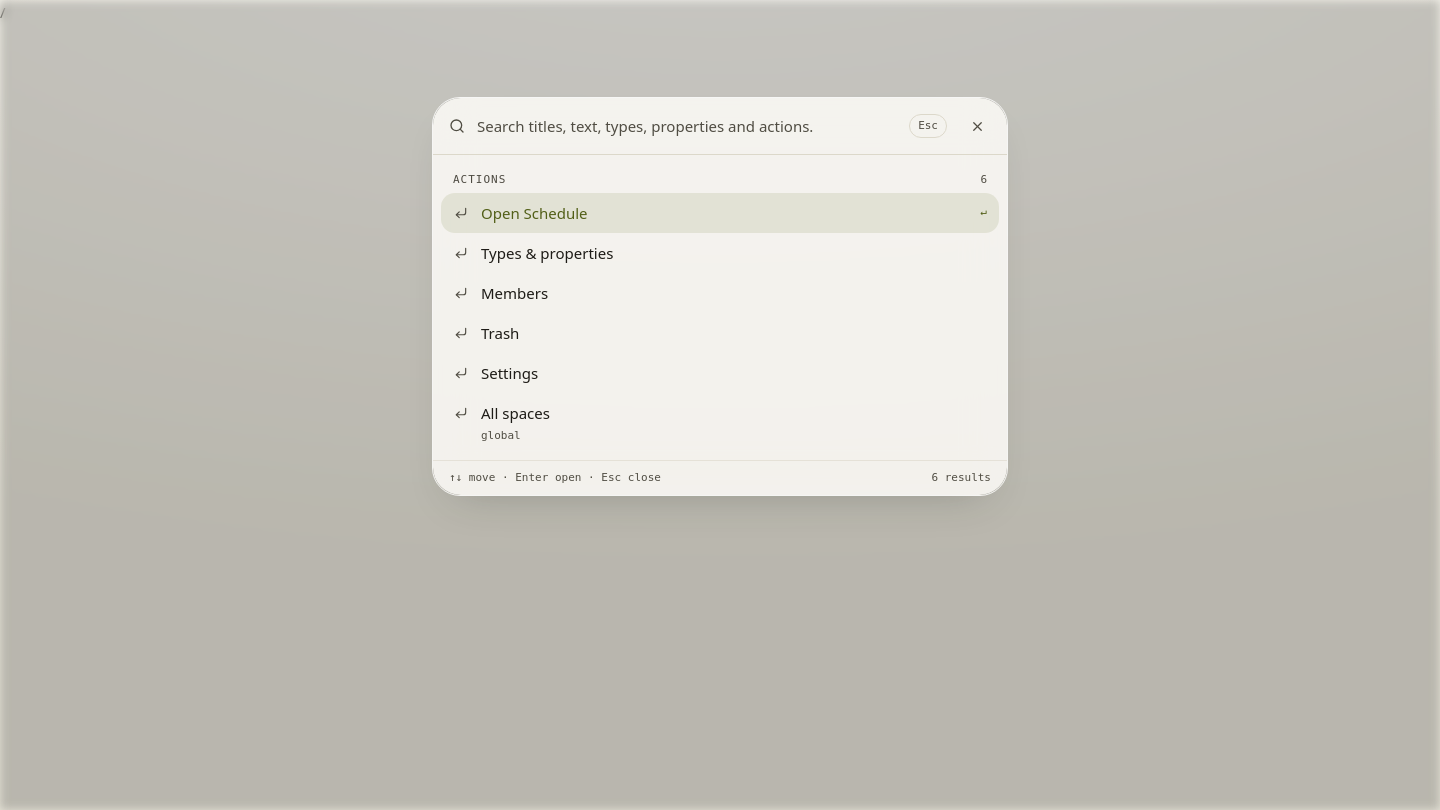
Scenario: CommandPalette › finds a property and opens it on the schema page
Type "roo" into the dropdown named "Search and commands".
click(687, 126); type("roo")  # box 477,98 -> 897,154
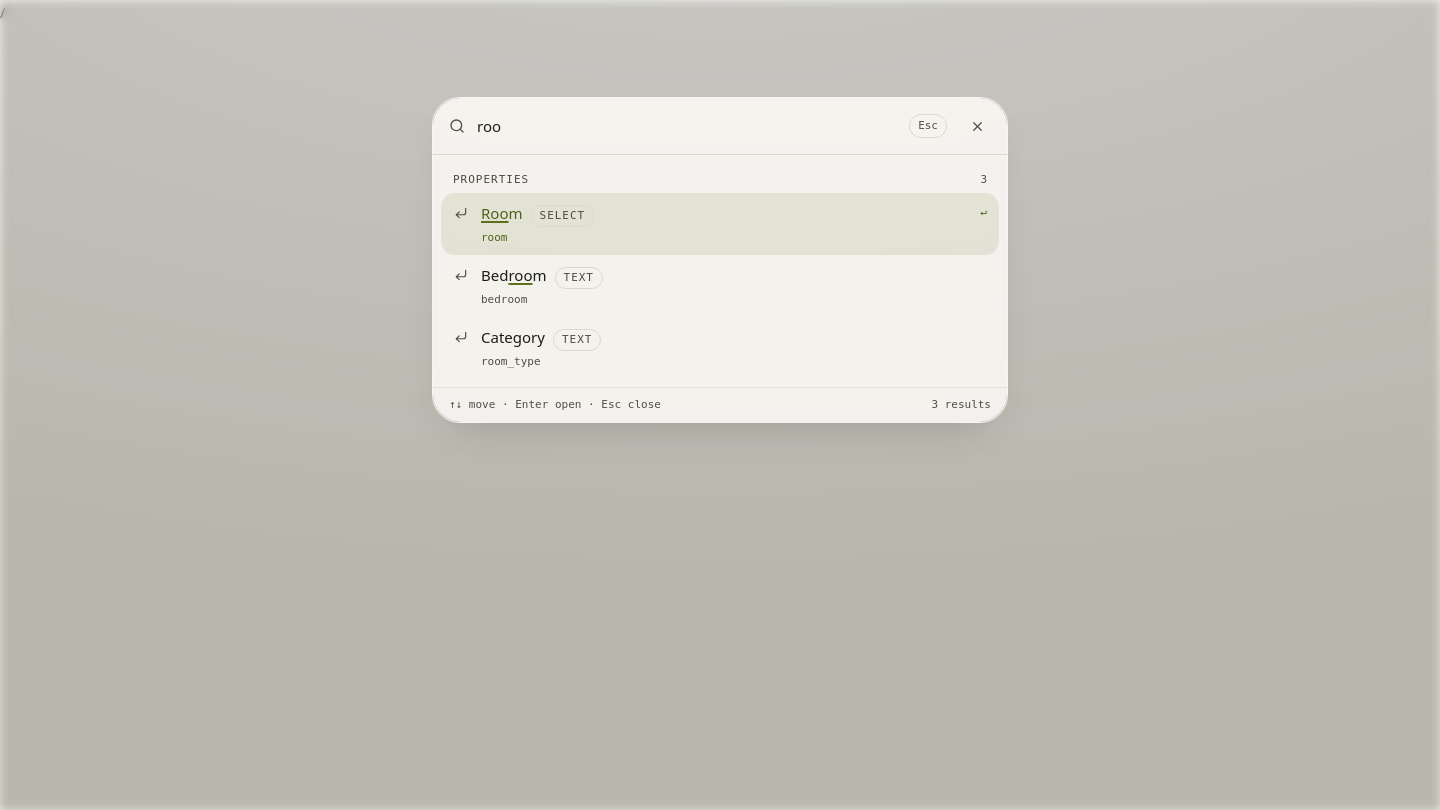
Expected: the option "Room Select room ↵" is shown
Click the option "Room Select room ↵".
click(562, 216)  # box 441,193 -> 999,255
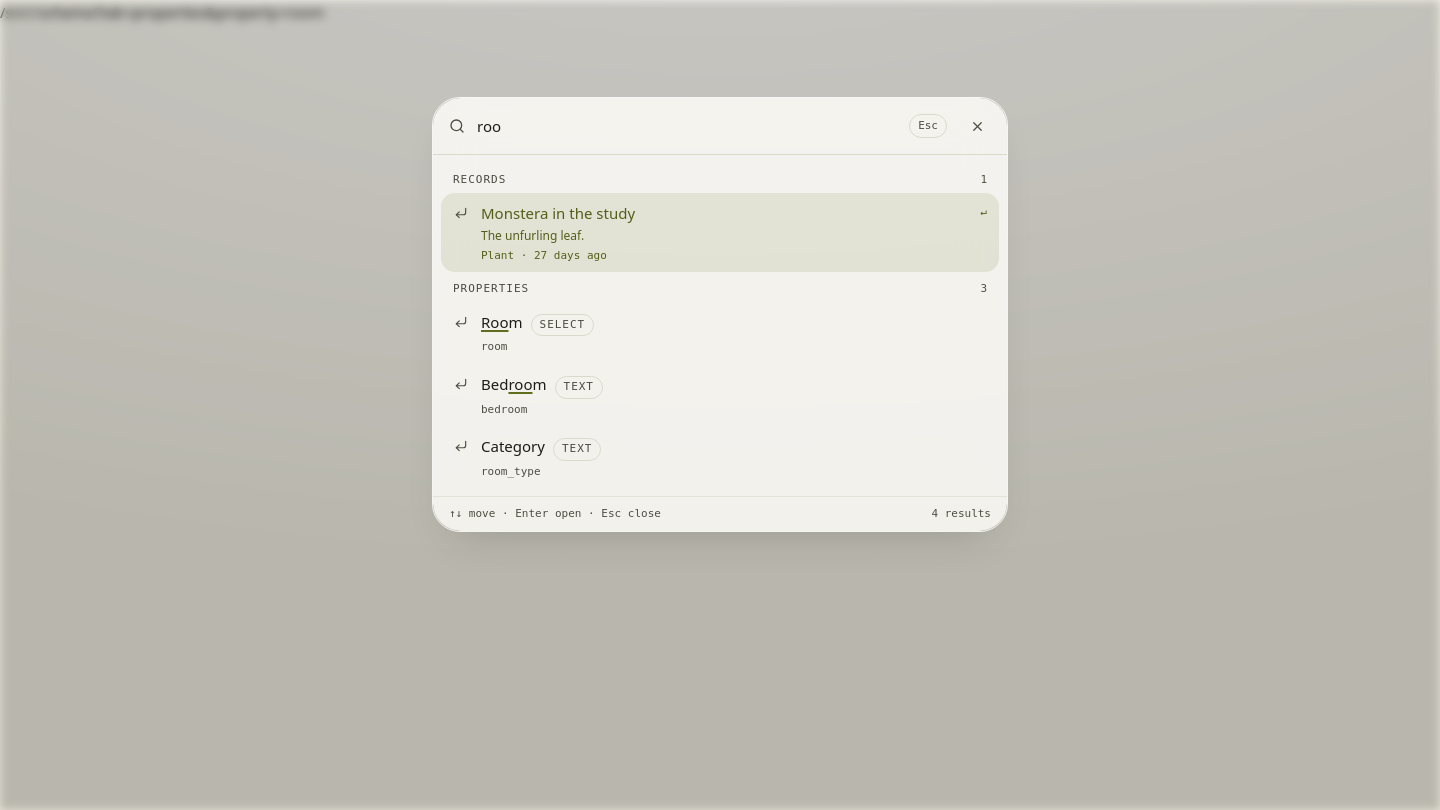
Expected: the text with test id "location" reads "/s/s1/schema?tab=properties&property=room", 0,2 -> 324,22
